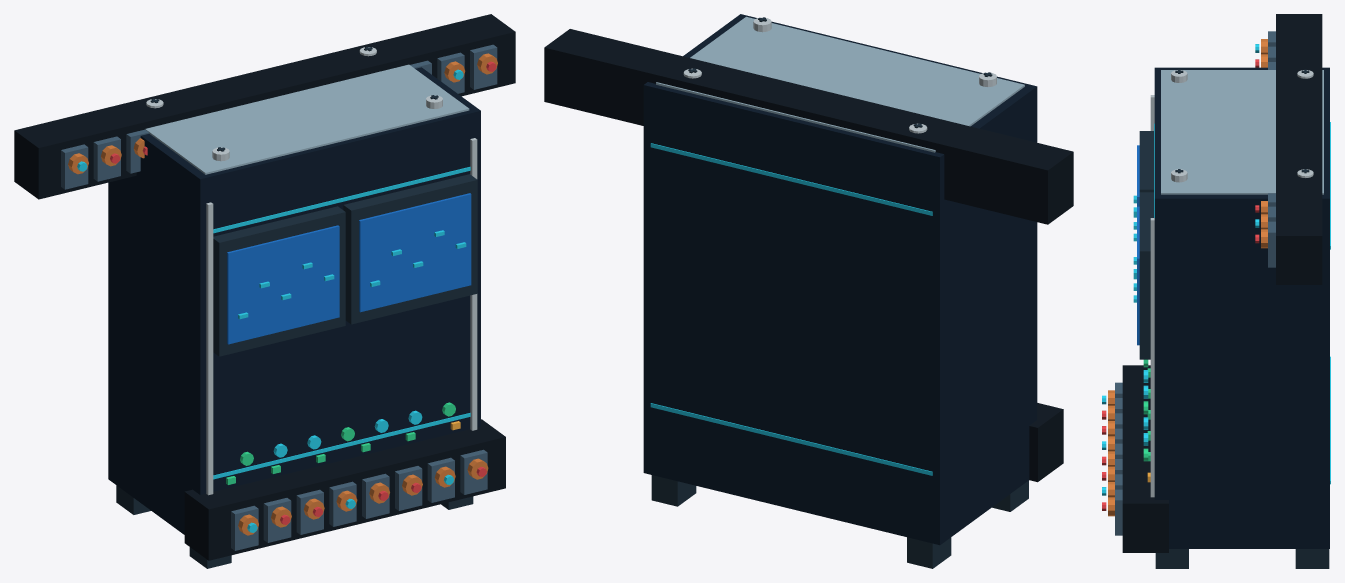
The model's file is 53_L78_DielectricReliabilityController.fbx.
3 renders of one model, left to right at view 1: azimuth 30°, elevation 25°; view 2: azimuth 150°, elevation 25°; view 3: azimuth 270°, elevation 25°, orthographic. The views are drawn at different scales.
Visible parts, largest first — view 1: DielectricReliabilityController; view 2: DielectricReliabilityController; view 3: DielectricReliabilityController.
Part boxes in pixels (box(x1,y1,x2,y2)): DielectricReliabilityController: box(14, 14, 515, 568); DielectricReliabilityController: box(544, 14, 1073, 568); DielectricReliabilityController: box(1102, 14, 1330, 568).
Bounding box in the file's own units: 204 × 165 × 88.72.
